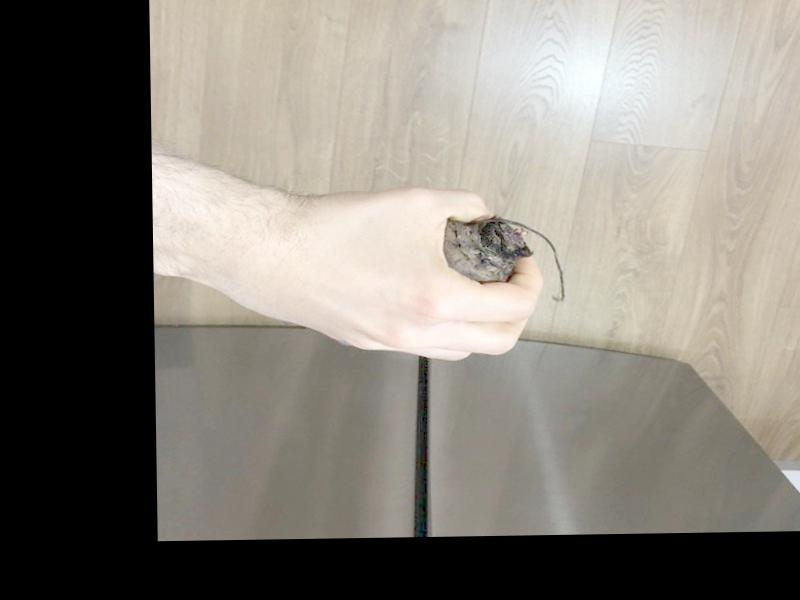Beet: (443, 215, 568, 305)
